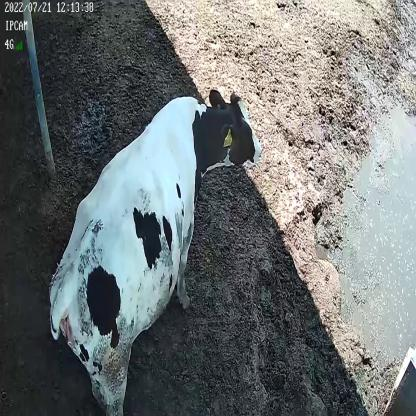cow: (47, 86, 262, 416)
